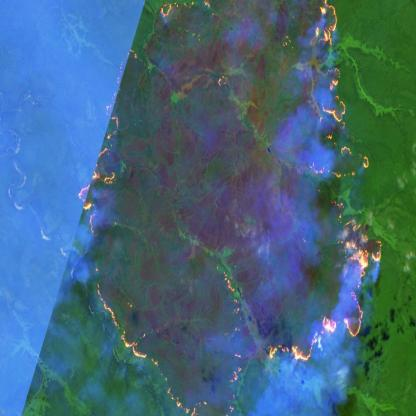fire: (67, 0, 386, 416)
